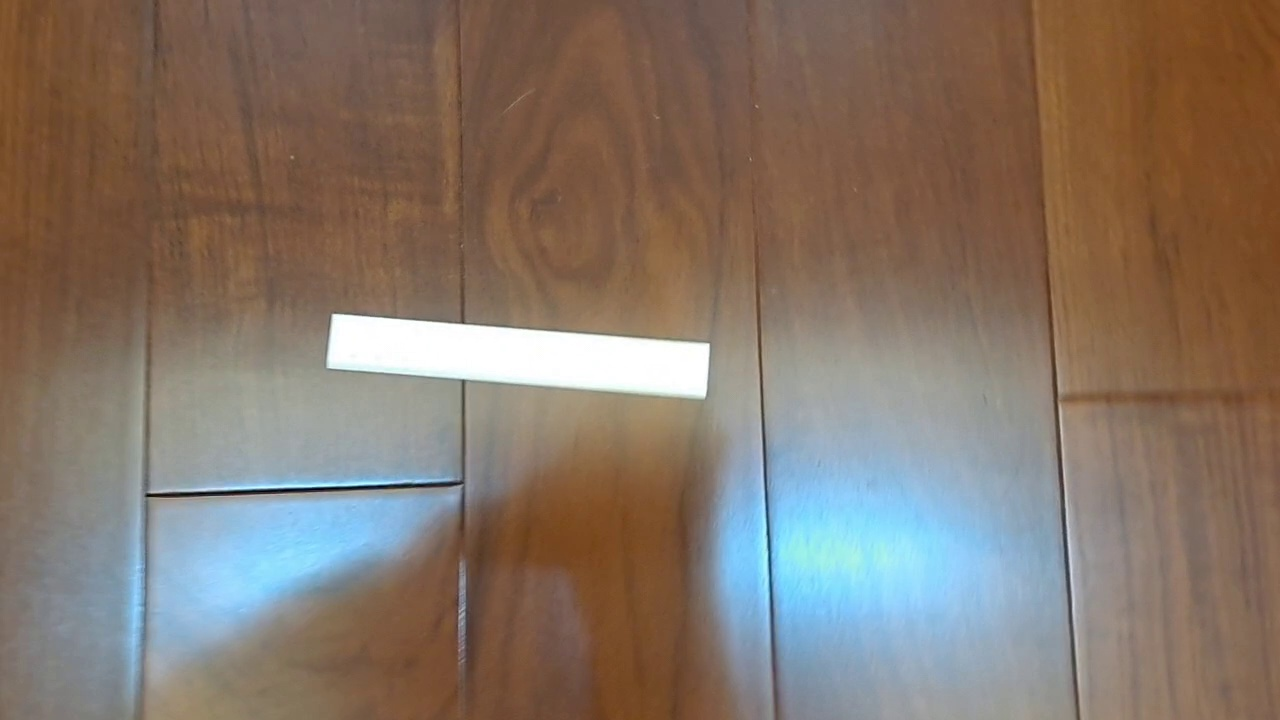ruler: (325, 312, 711, 400)
